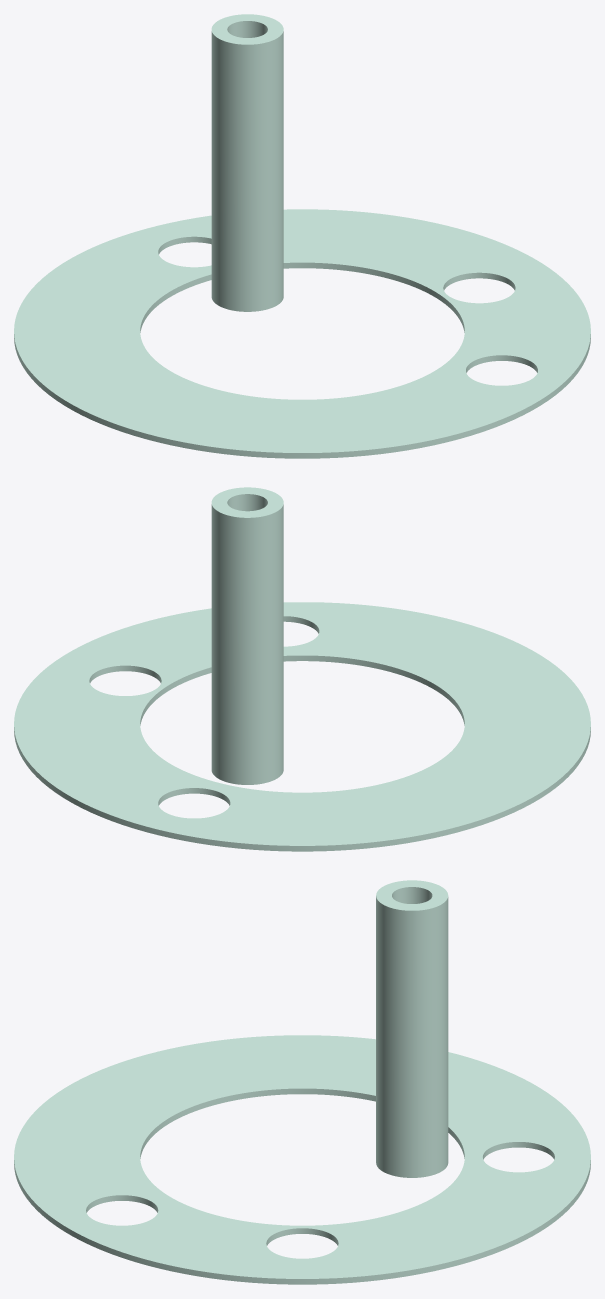
3 renders of one model, top to bottom at view 1: azimuth 30°, elevation 25°; view 2: azimuth 150°, elevation 25°; view 3: azimuth 270°, elevation 25°, orthographic.
Parts seen in each view (by area): view 1: Renderer Node; view 2: Renderer Node; view 3: Renderer Node.
Part boxes in pixels (bbox=[...]): Renderer Node: bbox=[14, 14, 590, 458]; Renderer Node: bbox=[14, 487, 590, 851]; Renderer Node: bbox=[14, 880, 590, 1284].
Size of the model in its own units: 1.45 by 0.7422 by 1.45.
